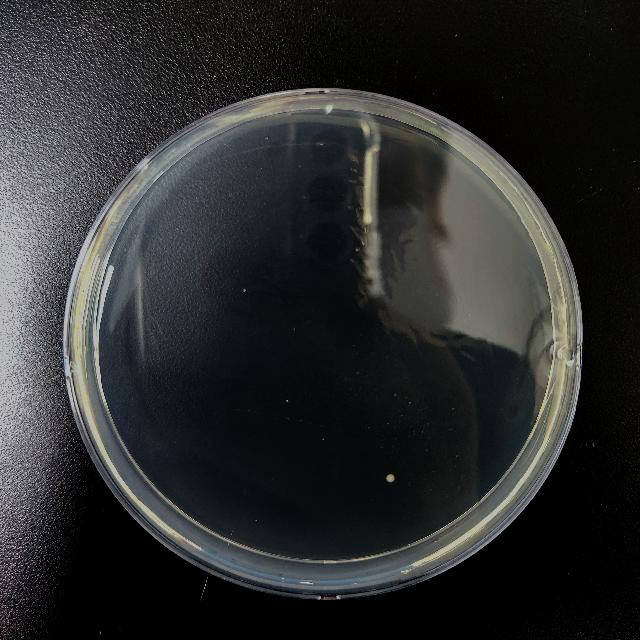colony: (385, 473, 395, 483)
